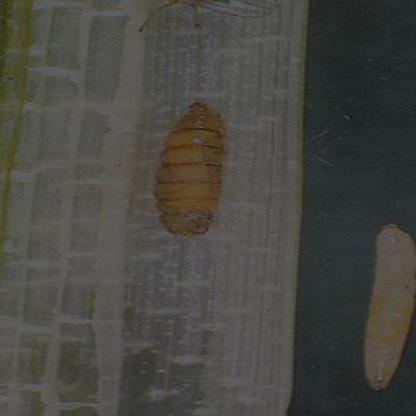whorl-maggot: (140, 92, 242, 246), (359, 214, 414, 394)
